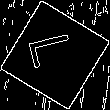L_E: (26, 34, 84, 76)
